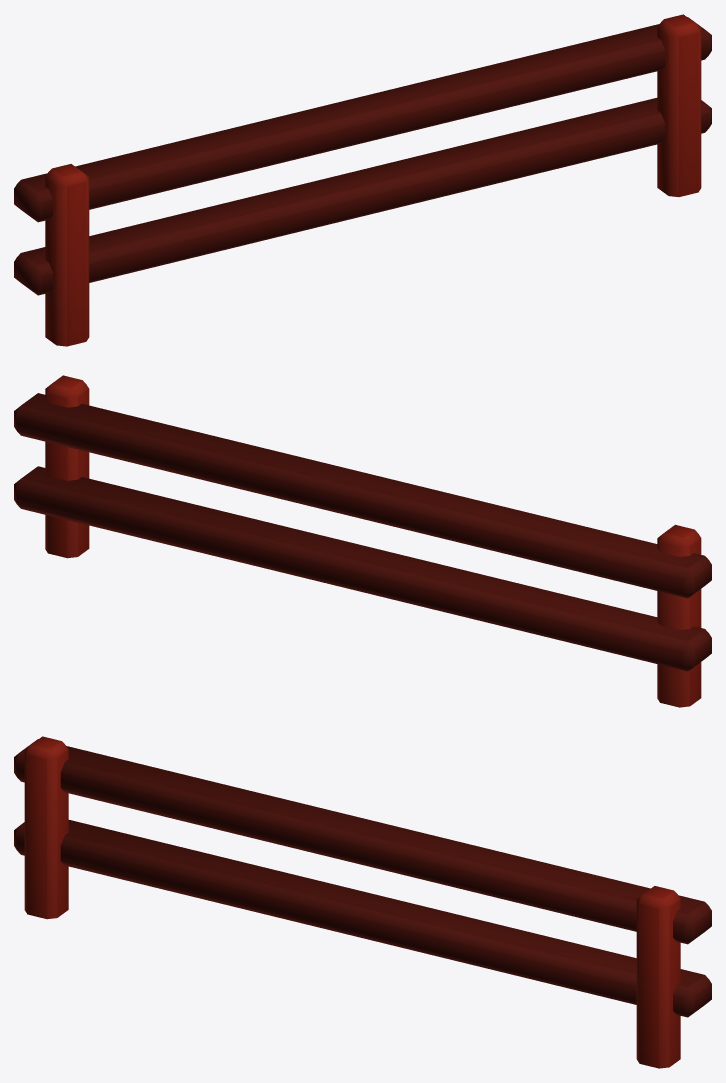
Rendered from Obstacle_Fence_01.fbx.
3 renders of one model, top to bottom at view 1: azimuth 30°, elevation 25°; view 2: azimuth 150°, elevation 25°; view 3: azimuth 330°, elevation 25°, orthographic.
Visible parts, largest first — view 1: Obstacle_Fence_01; view 2: Obstacle_Fence_01; view 3: Obstacle_Fence_01.
Boxes of the visible parts, box(x1,y1,x2,y2) form: Obstacle_Fence_01: box(14, 14, 711, 346); Obstacle_Fence_01: box(14, 375, 711, 707); Obstacle_Fence_01: box(14, 736, 711, 1068).
Size of the model in its own units: 2.05 by 0.4802 by 0.1682.
